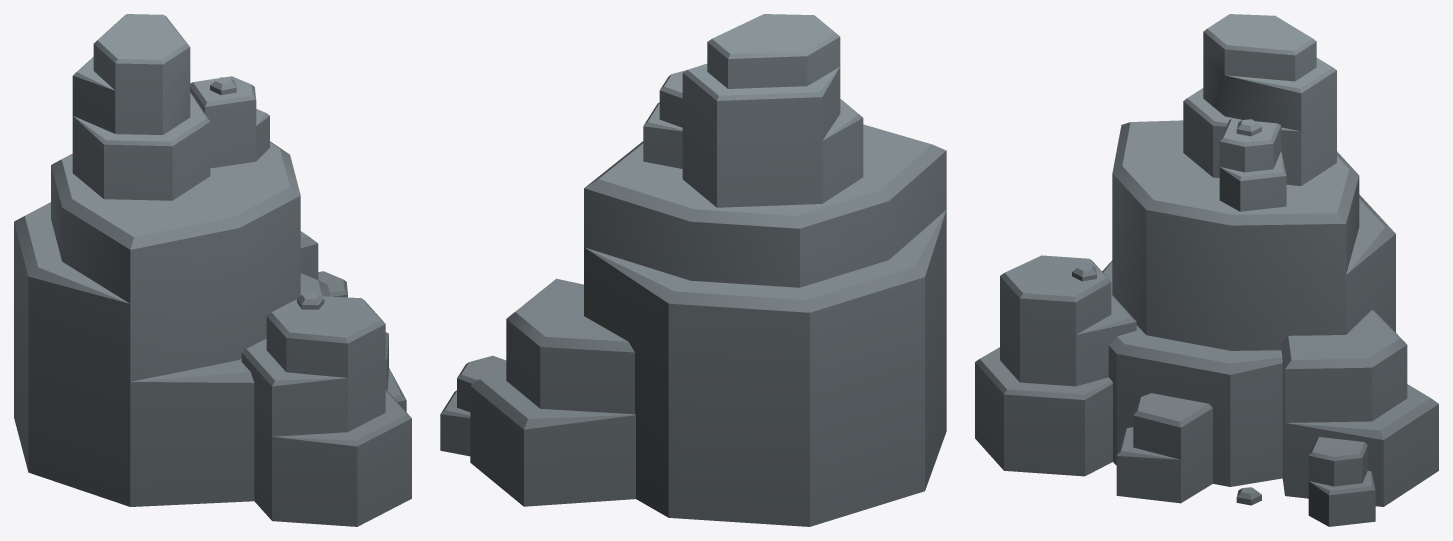
File: Rock_1_J.glb
3 renders of one model, left to right at view 1: azimuth 30°, elevation 25°; view 2: azimuth 150°, elevation 25°; view 3: azimuth 270°, elevation 25°, orthographic. The views are drawn at different scales.
Visible parts, largest first — view 1: Rock_1_J_Color1; view 2: Rock_1_J_Color1; view 3: Rock_1_J_Color1.
Boxes of the visible parts, bbox=[...] form: Rock_1_J_Color1: bbox=[14, 14, 411, 526]; Rock_1_J_Color1: bbox=[440, 14, 946, 526]; Rock_1_J_Color1: bbox=[975, 14, 1438, 526].
Bounding box in the file's own units: 3.39 × 3.36 × 3.76.
Materials: 1 (1 with a texture image).
